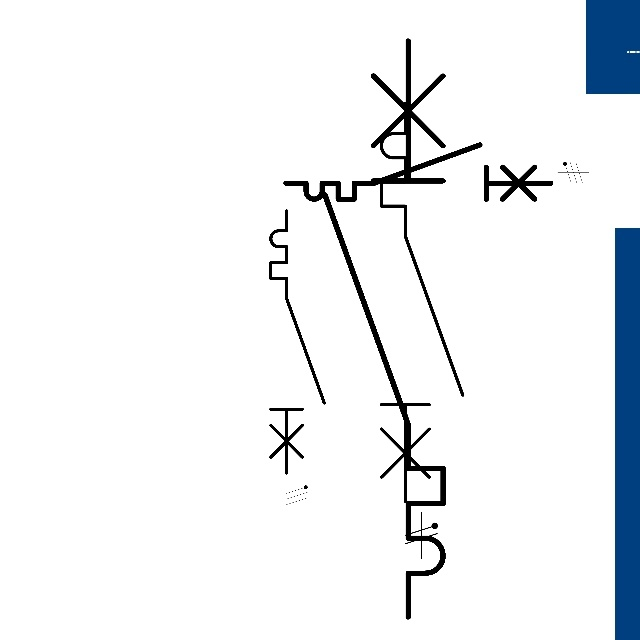interruptor_termomagnetico: (310, 26, 458, 632), (371, 93, 473, 512), (279, 138, 557, 206), (264, 204, 331, 480)
